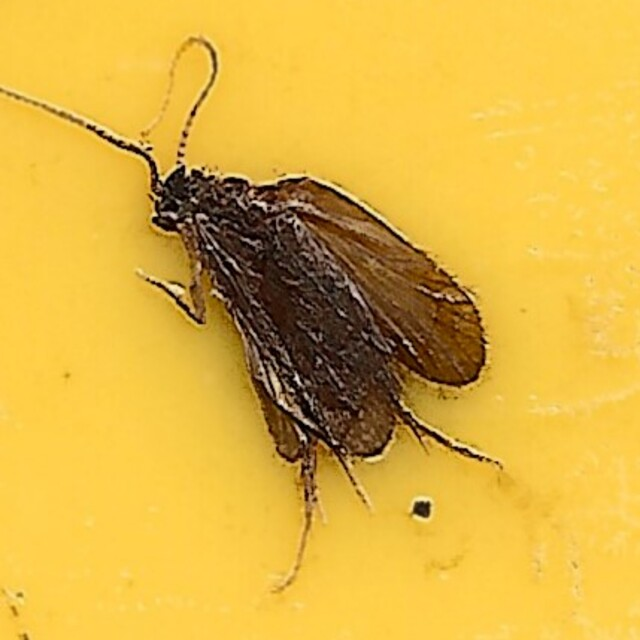Trichoptera: (149, 165, 491, 475)
